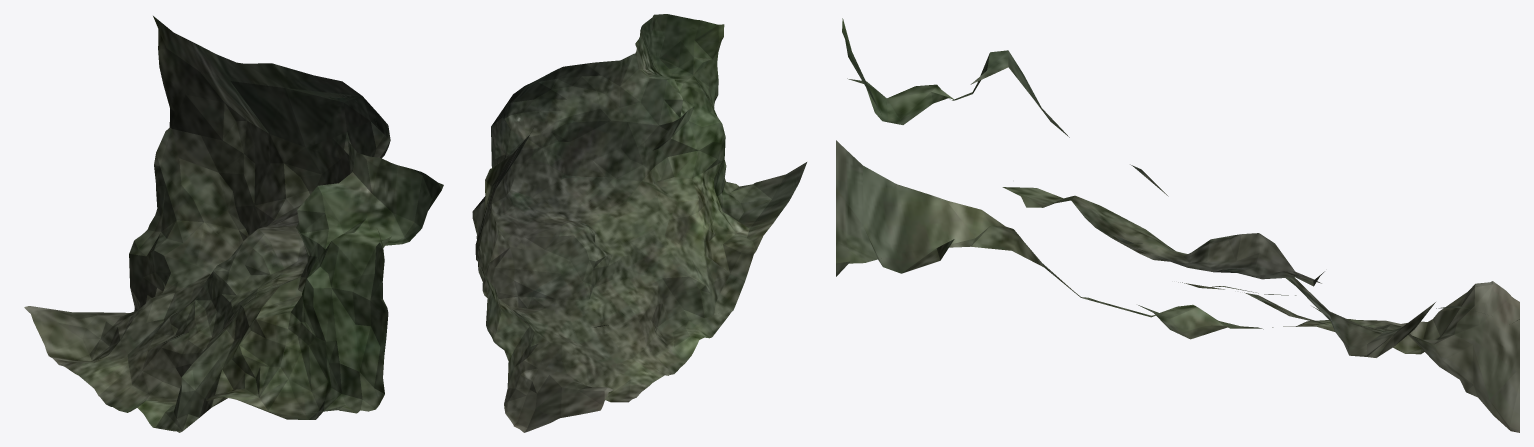
3 views of the same model, side by side, from view 1: azimuth 30°, elevation 25°; view 2: azimuth 150°, elevation 25°; view 3: azimuth 270°, elevation 25° (orthographic). The views are drawn at different scales.
Size of the model in its own units: 3.24 by 4.02 by 5.9.
Materials: 2 (2 with a texture image).
